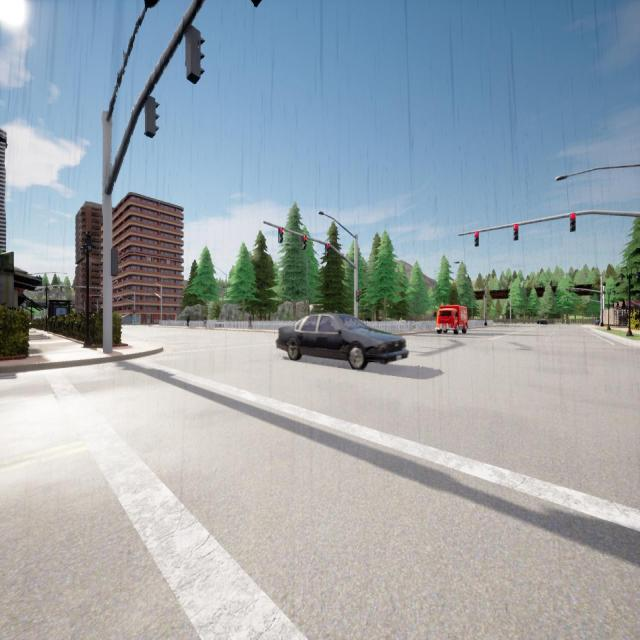Pedestrian: (248, 313, 252, 329), (187, 314, 190, 327), (204, 314, 206, 328)
Traffic_Signs: (500, 316, 502, 320)
Vehicle: (278, 313, 406, 369), (438, 306, 468, 333), (537, 319, 547, 325), (595, 320, 600, 324)
traffic_light: (186, 26, 205, 84), (145, 98, 159, 138), (112, 249, 118, 275), (570, 214, 576, 232), (301, 236, 306, 250), (514, 224, 518, 240), (278, 228, 282, 242), (475, 232, 479, 246), (325, 243, 329, 256), (356, 290, 360, 302), (113, 296, 116, 300), (569, 288, 571, 293), (90, 294, 92, 298), (134, 309, 135, 314), (567, 299, 568, 303), (557, 300, 558, 303), (580, 299, 581, 302)
